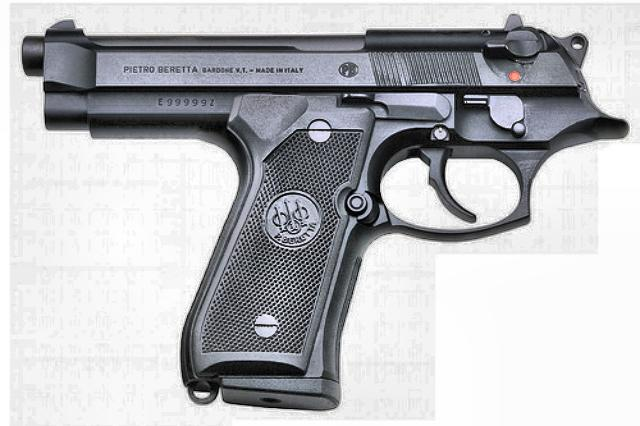pistol: (21, 14, 631, 412)
